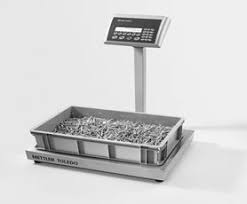Industrial Scale: (22, 15, 196, 184)
